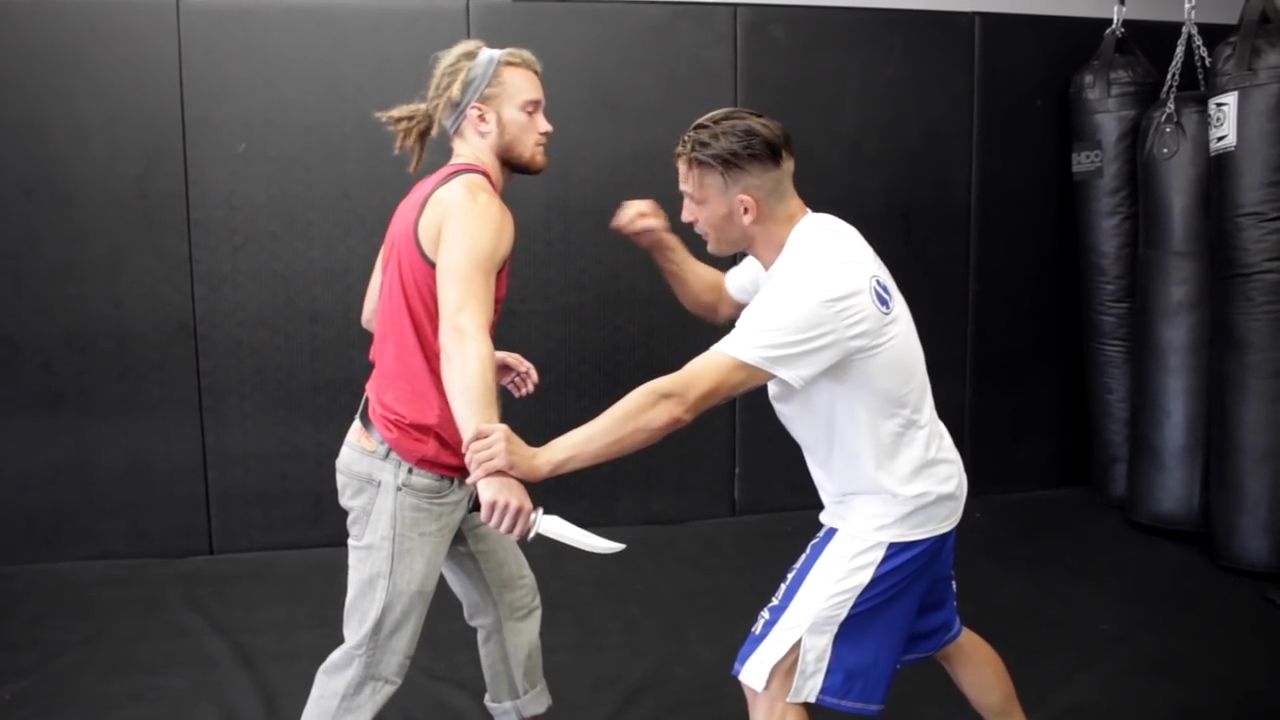knife: (459, 488, 638, 569)
